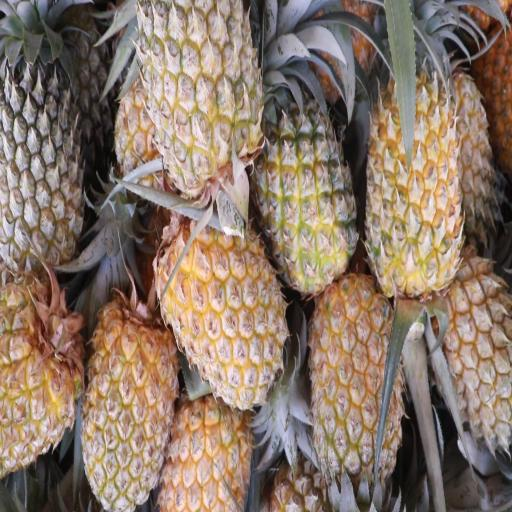------------------------------: (251, 55, 360, 301), (135, 0, 265, 205)
Pineapple - v8 v1: (361, 6, 468, 306), (153, 203, 292, 423), (304, 271, 406, 512), (80, 286, 182, 507), (0, 266, 87, 484), (435, 235, 512, 467), (155, 374, 254, 512)
